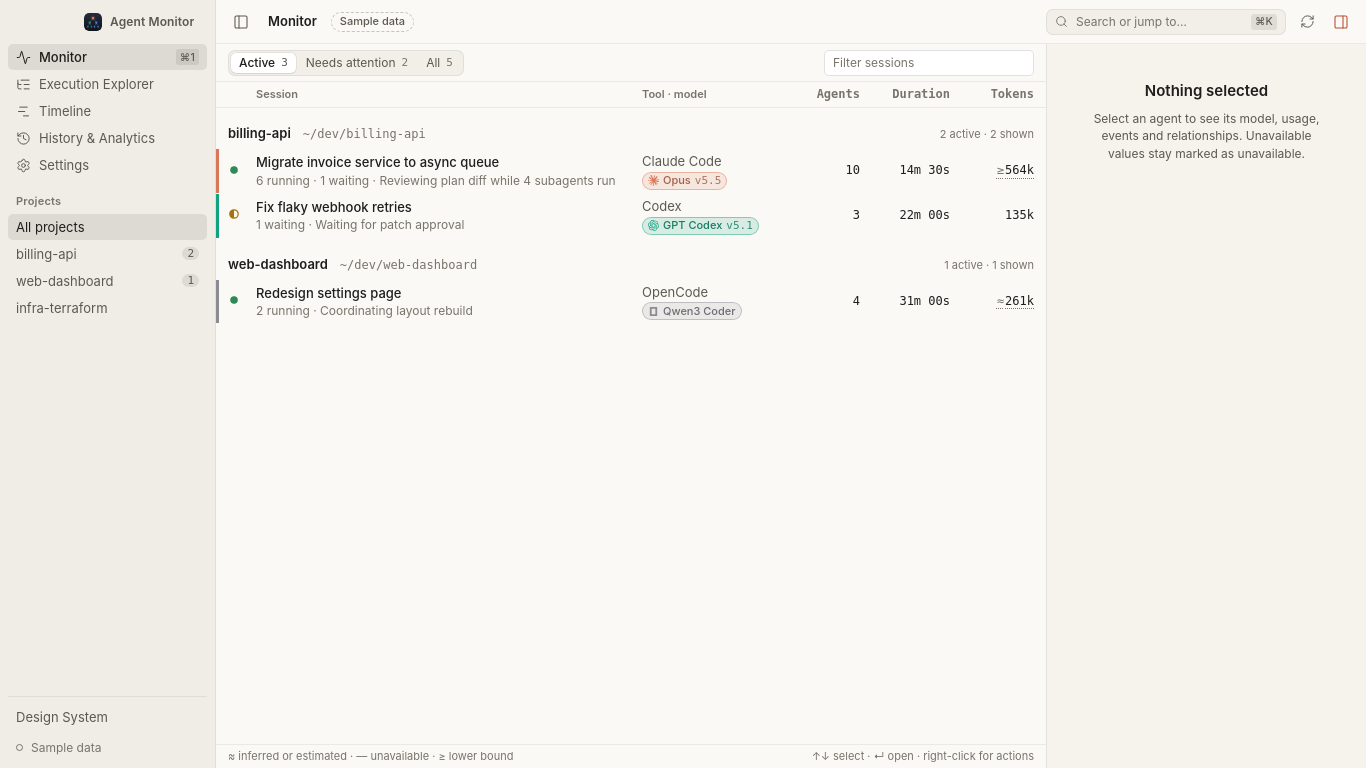
Test: views (sample source) › opens the command palette from the toolbar
Click the button with aria-label "Open command palette" at coordinates (1166, 22), box [1046, 8, 1286, 34]
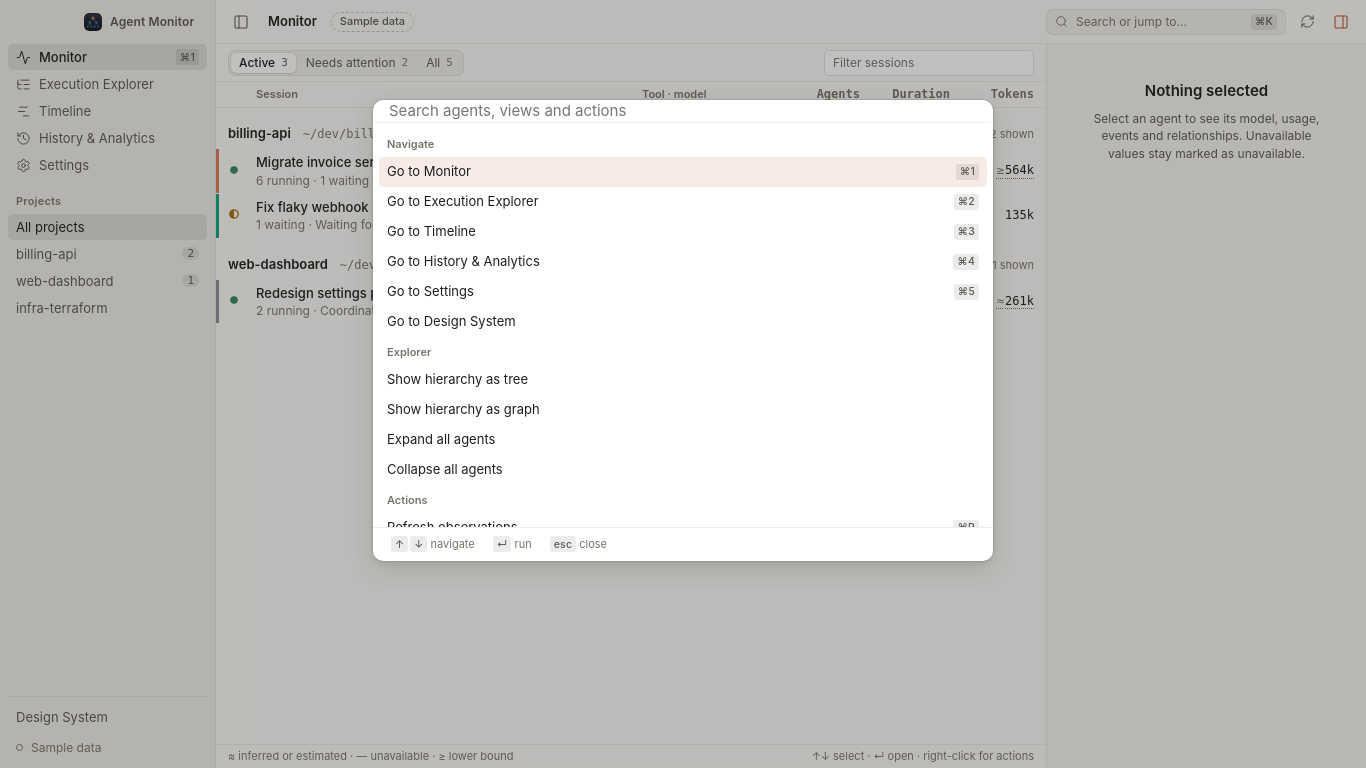
expect the dialog is shown: met, box [373, 100, 993, 561]
